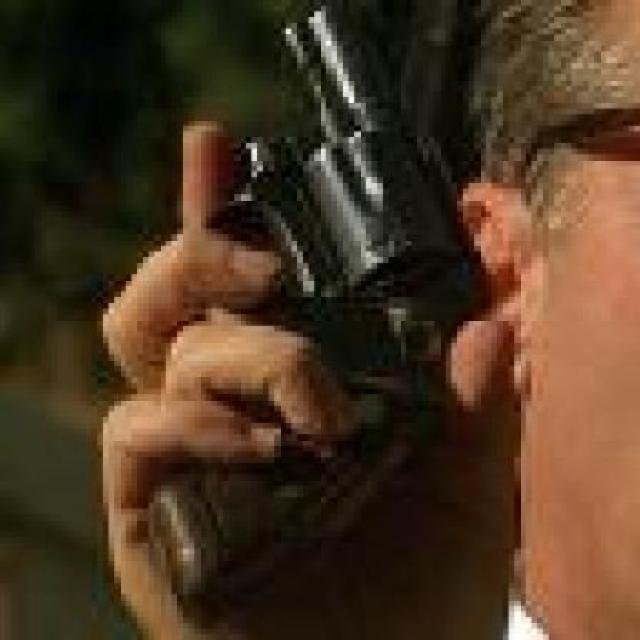rifle: (135, 14, 488, 584)
